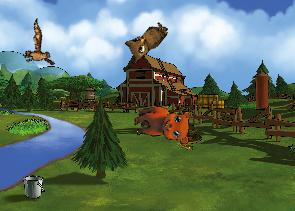bear: (132, 103, 193, 149)
eagle: (9, 18, 66, 77)
owl: (119, 12, 170, 66)
